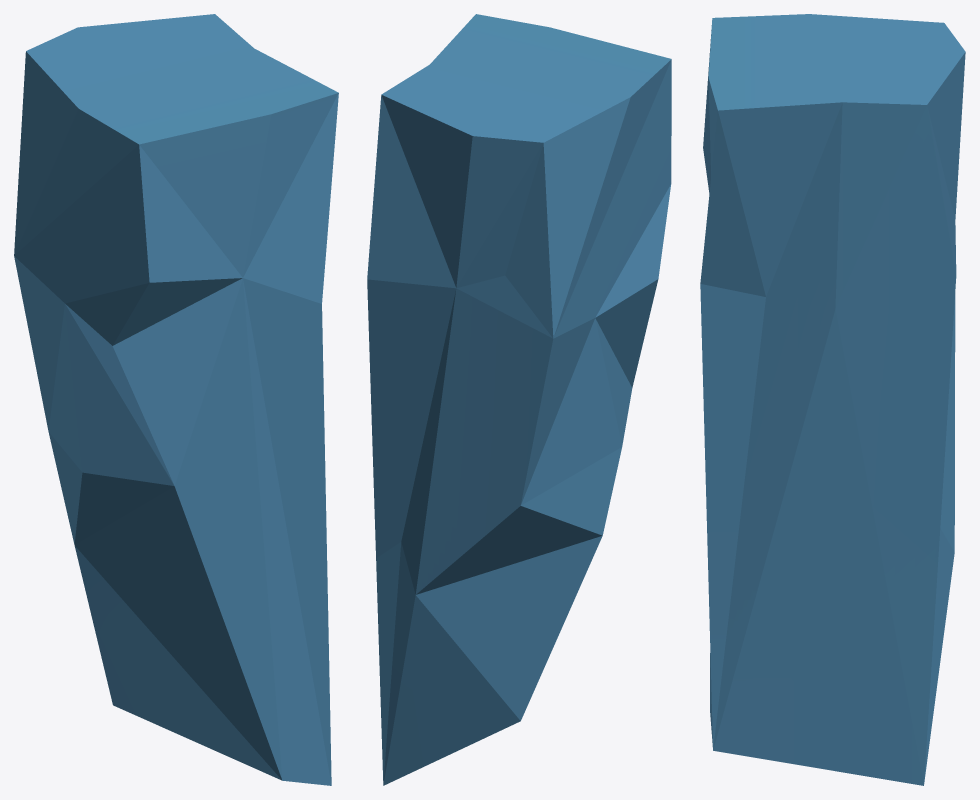
Rendered from sp_rock01.glb.
3 views of the same model, side by side, from view 1: azimuth 30°, elevation 25°; view 2: azimuth 150°, elevation 25°; view 3: azimuth 270°, elevation 25° (orthographic). The views are drawn at different scales.
Parts seen in each view (by area): view 1: SP_Rock01; view 2: SP_Rock01; view 3: SP_Rock01.
Boxes of the visible parts, x1,y1,x2,y2 form: SP_Rock01: (14,14,338,785); SP_Rock01: (367,14,671,785); SP_Rock01: (700,14,965,785).
Size of the model in its own units: 57.33 by 189 by 66.55.
1 material, 1 textured.
